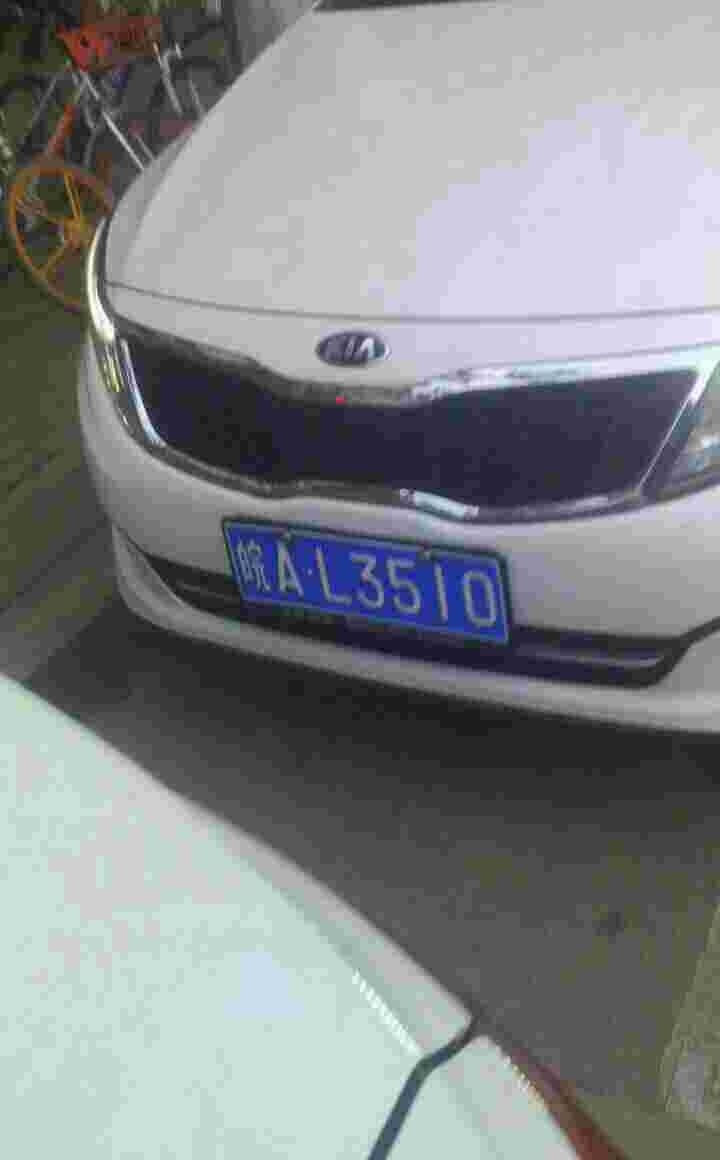license_plate: (229, 519, 513, 644)
